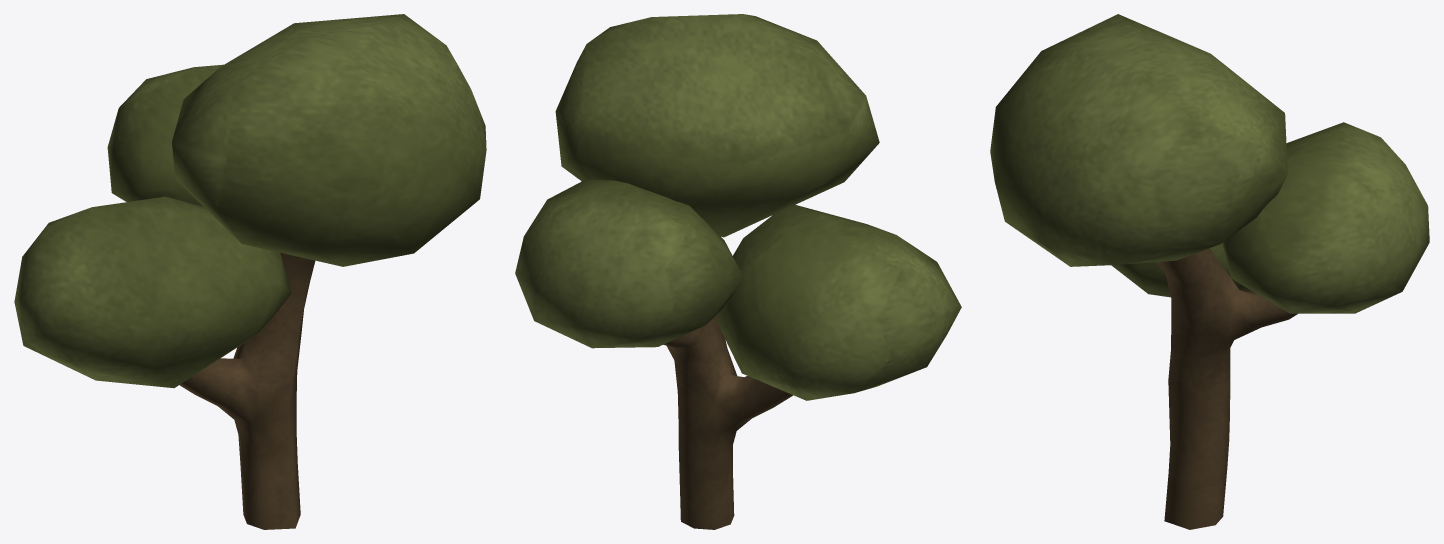
File: Trees_03.fbx
3 views of the same model, side by side, from view 1: azimuth 30°, elevation 25°; view 2: azimuth 150°, elevation 25°; view 3: azimuth 270°, elevation 25° (orthographic). The views are drawn at different scales.
Parts seen in each view (by area): view 1: Cube.001; view 2: Cube.001; view 3: Cube.001.
Boxes of the visible parts, box(x1,y1,x2,y2) form: Cube.001: box(14, 14, 486, 529); Cube.001: box(515, 14, 961, 529); Cube.001: box(990, 14, 1429, 529).
Size of the model in its own units: 1530 by 1756 by 1449.
